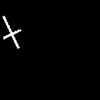single_crochet: (3, 16, 20, 47)
